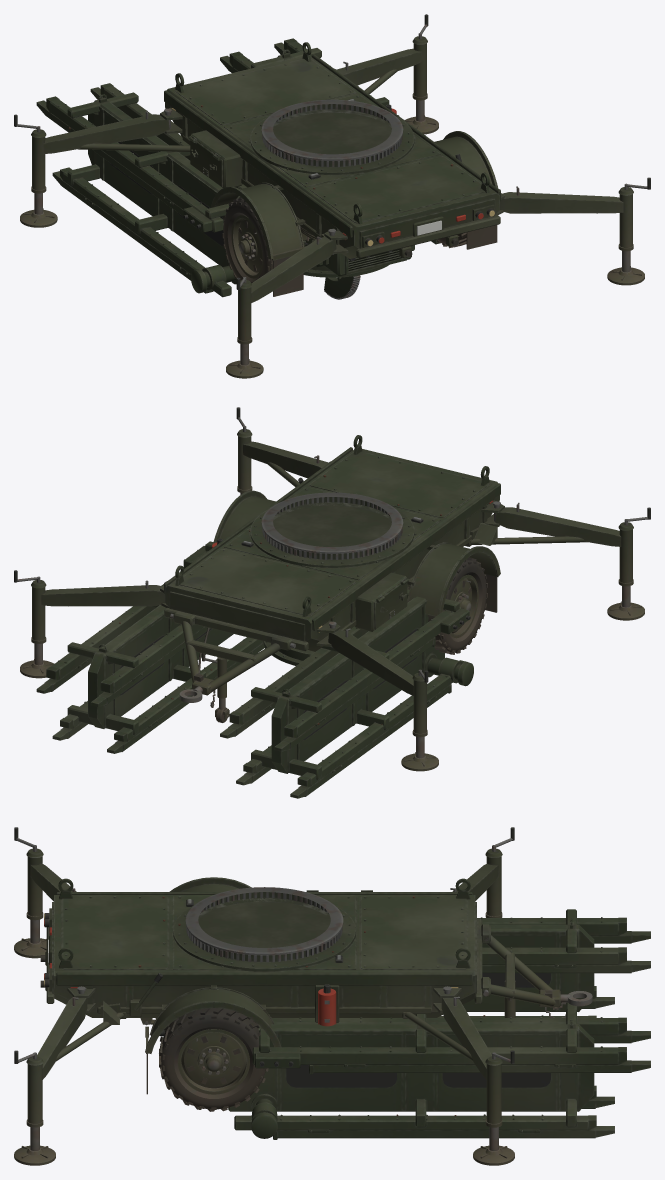
Rendered from hawk21.glb.
3 views of the same model, one above another, from view 1: azimuth 30°, elevation 25°; view 2: azimuth 150°, elevation 25°; view 3: azimuth 270°, elevation 25° (orthographic). The views are drawn at different scales.
Parts seen in each view (by area): view 1: body|HK_H, cradle|HK_T, turret|HK_T; view 2: body|HK_H, cradle|HK_T; view 3: body|HK_H, cradle|HK_T.
Boxes of the visible parts, bbox=[...] form: body|HK_H: bbox=[14, 14, 650, 378]; cradle|HK_T: bbox=[36, 38, 440, 299]; turret|HK_T: bbox=[303, 239, 411, 277]; body|HK_H: bbox=[14, 407, 650, 771]; cradle|HK_T: bbox=[36, 541, 473, 798]; body|HK_H: bbox=[14, 827, 592, 1165]; cradle|HK_T: bbox=[228, 909, 650, 1139].
Bounding box in the file's own units: 4.43 × 1.75 × 5.29.
Materials: 4 (3 with a texture image).
